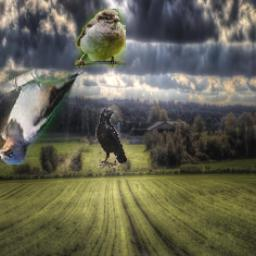Crow: (97, 109, 128, 169)
Sparrow: (76, 9, 127, 68)
Swallow: (0, 69, 84, 164)
